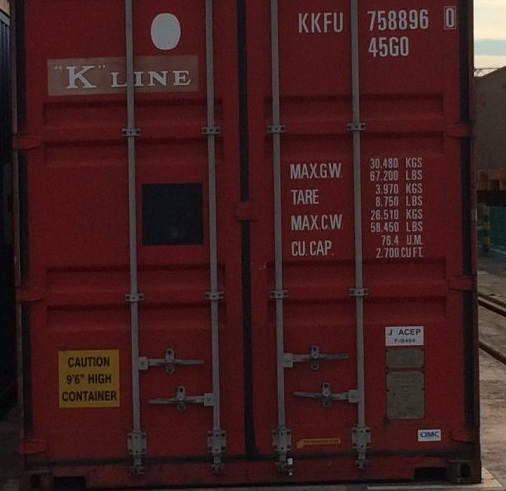container_door: (22, 1, 475, 488)
